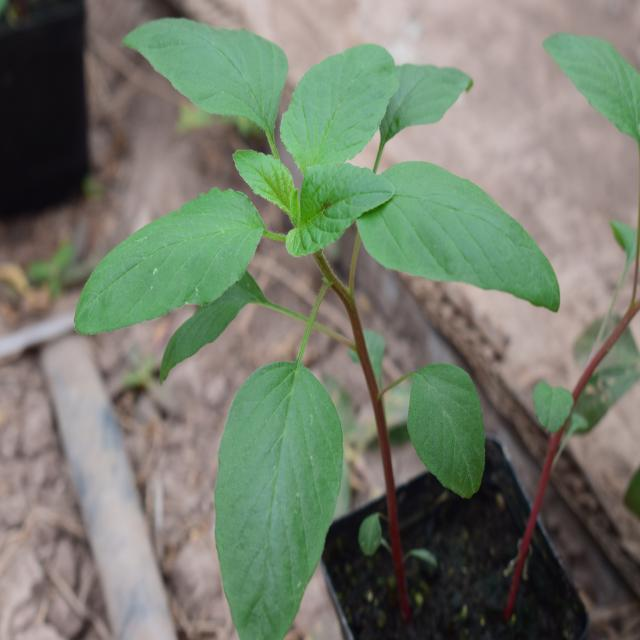pigweed: (86, 24, 524, 601)
